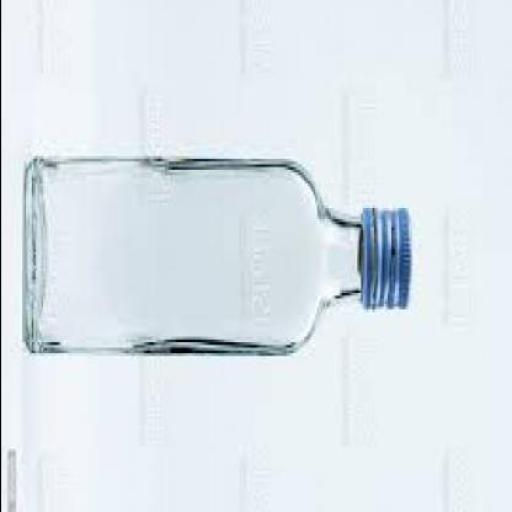glass: (24, 162, 364, 359)
metal: (364, 214, 415, 314)
